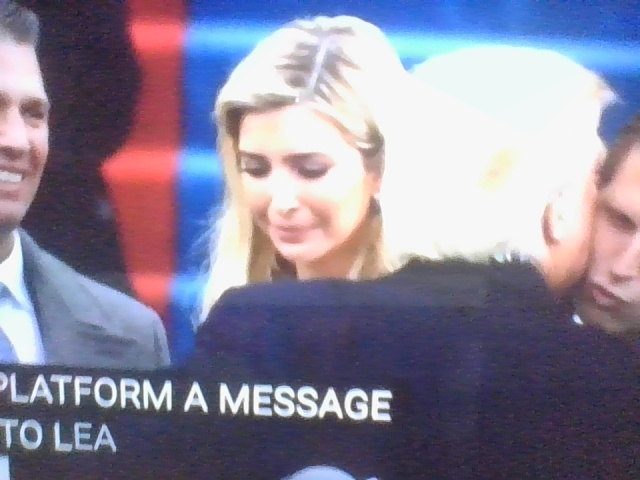fake: (226, 51, 389, 282)
